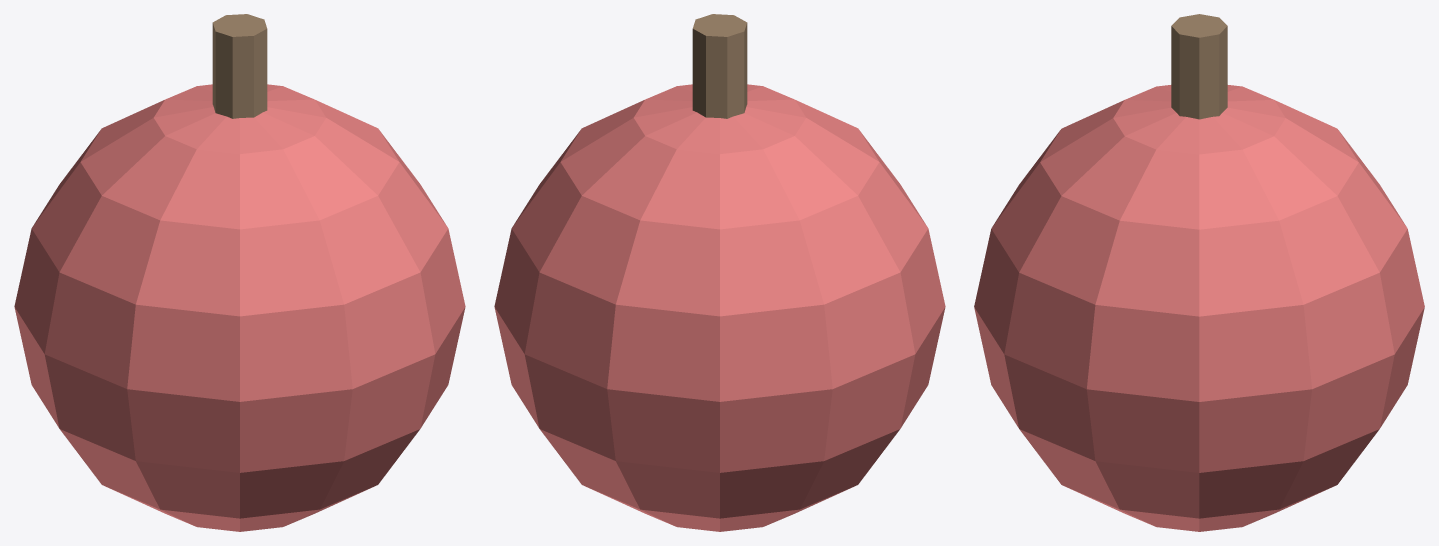
The model's file is product_apple.glb.
3 views of the same model, side by side, from view 1: azimuth 30°, elevation 25°; view 2: azimuth 150°, elevation 25°; view 3: azimuth 270°, elevation 25° (orthographic).
Visible parts, largest first — view 1: body.003, stem; view 2: body.003, stem; view 3: body.003, stem.
Boxes of the visible parts, x1=… form: body.003: x1=14, y1=84, x2=465, y2=531; stem: x1=212, y1=14, x2=267, y2=118; body.003: x1=494, y1=84, x2=945, y2=531; stem: x1=692, y1=14, x2=747, y2=118; body.003: x1=974, y1=85, x2=1424, y2=531; stem: x1=1171, y1=14, x2=1227, y2=119.
Bounding box in the file's own units: 0.32 × 0.38 × 0.32.
